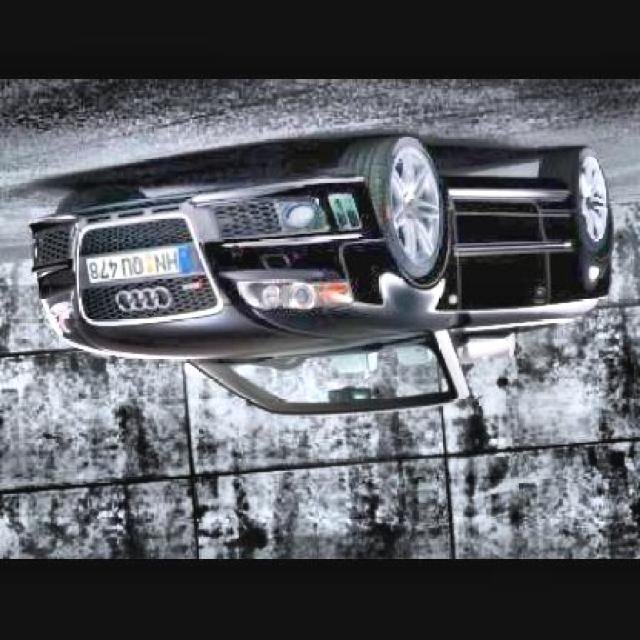black: (0, 162, 621, 413)
